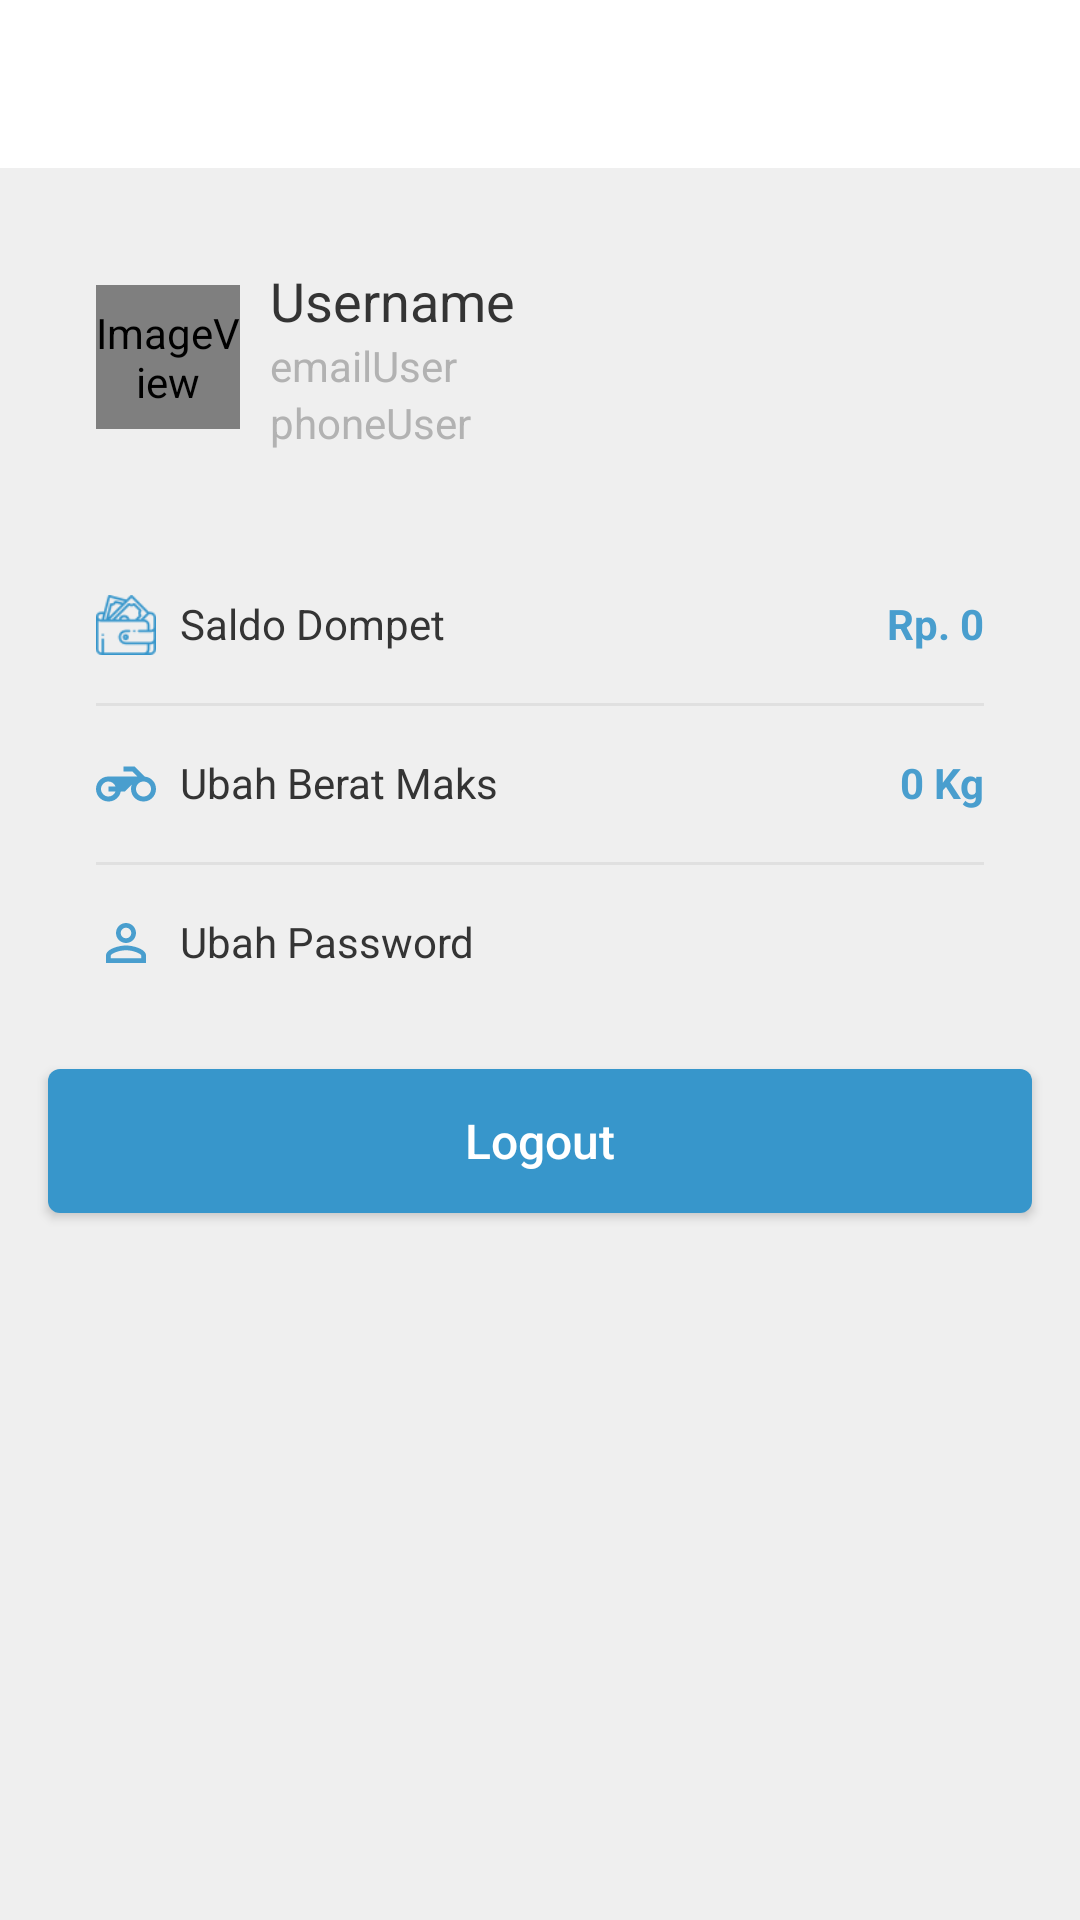

Icon click points for this 1080px×1920px phone screenshot, format point (x, y):
motor: point (126, 784)
person: point (126, 943)
wallet: point (126, 625)
